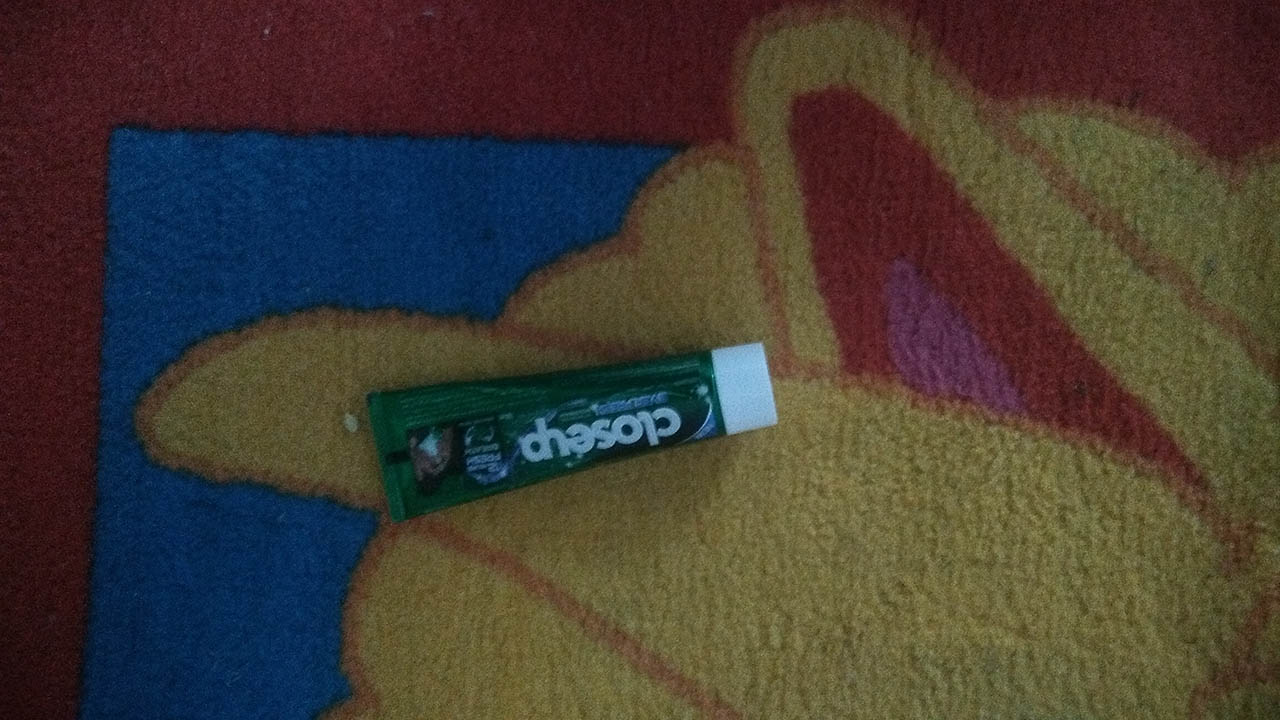Toothpaste-Closeup 3.04$: (338, 328, 840, 537)
